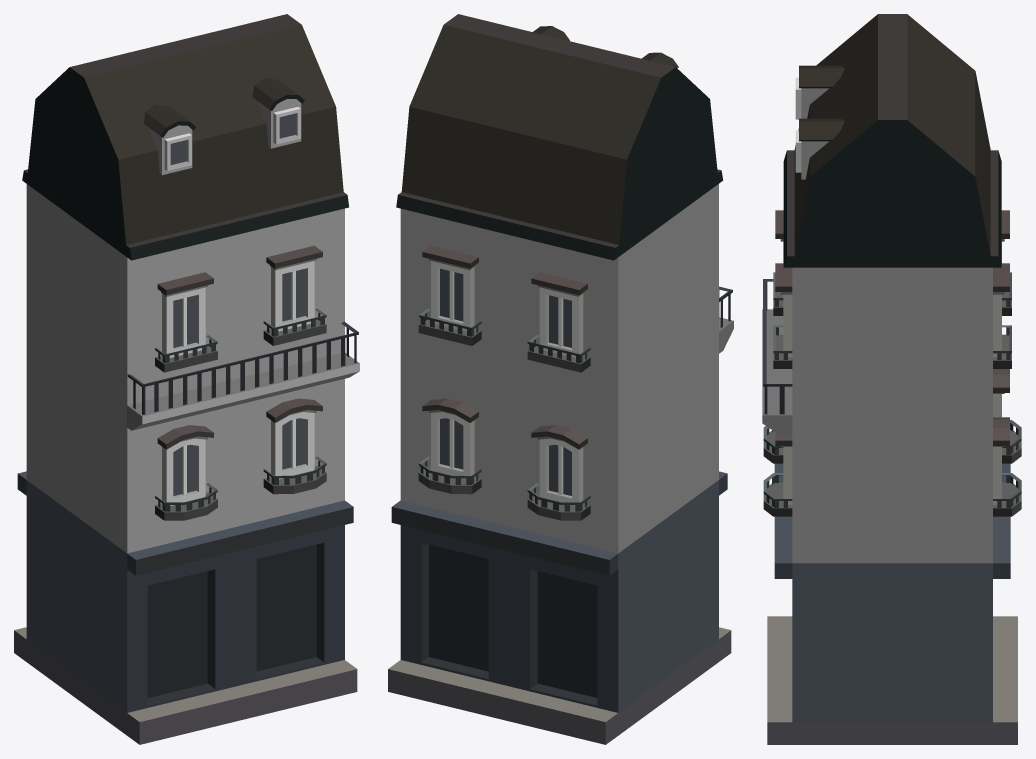
File: TB_CITY_BD_R_Line_3_D.FBX
3 renders of one model, left to right at view 1: azimuth 30°, elevation 25°; view 2: azimuth 150°, elevation 25°; view 3: azimuth 270°, elevation 25°, orthographic.
Visible parts, largest first — view 1: TB_CITY_BD_R_Line_3_D; view 2: TB_CITY_BD_R_Line_3_D; view 3: TB_CITY_BD_R_Line_3_D.
Part boxes in pixels (box(x1,y1,x2,y2)): TB_CITY_BD_R_Line_3_D: box(14, 14, 359, 744); TB_CITY_BD_R_Line_3_D: box(388, 14, 733, 744); TB_CITY_BD_R_Line_3_D: box(762, 14, 1021, 744).
Size of the model in its own units: 7.99 by 21.97 by 8.27.
